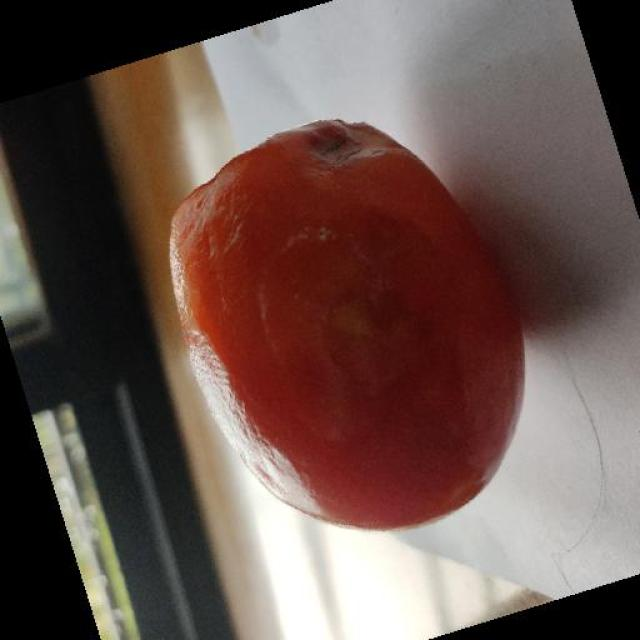Stale_tomato: (171, 100, 529, 536)
